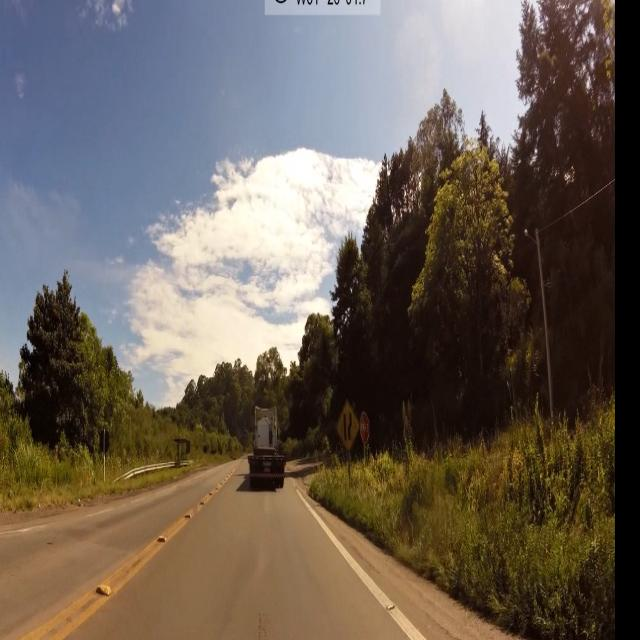A-21e: (336, 401, 359, 448)
